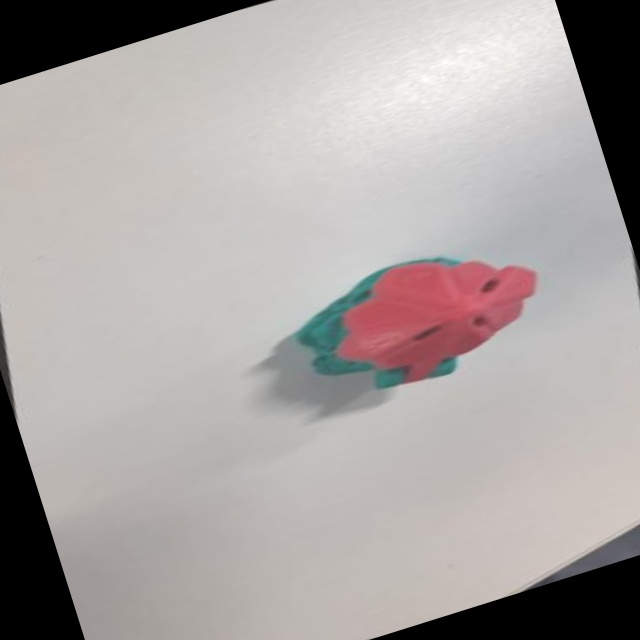House: (253, 211, 567, 425)
